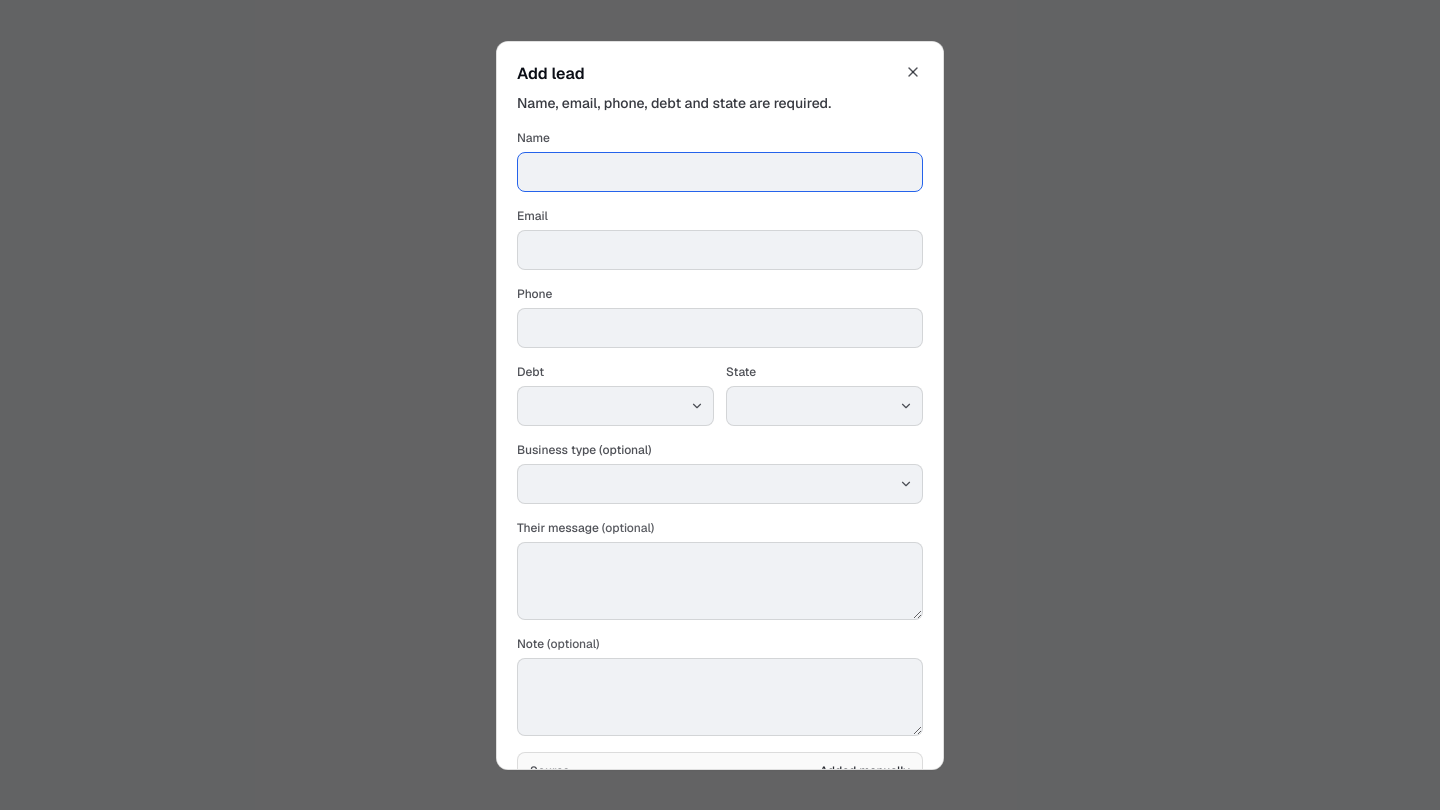
Test: AddLeadDialog — the State dropdown › stays open while several are ticked, and shows them on the button in a fixed order
Click the button named "State" at [824, 406], box [726,386,923,426]
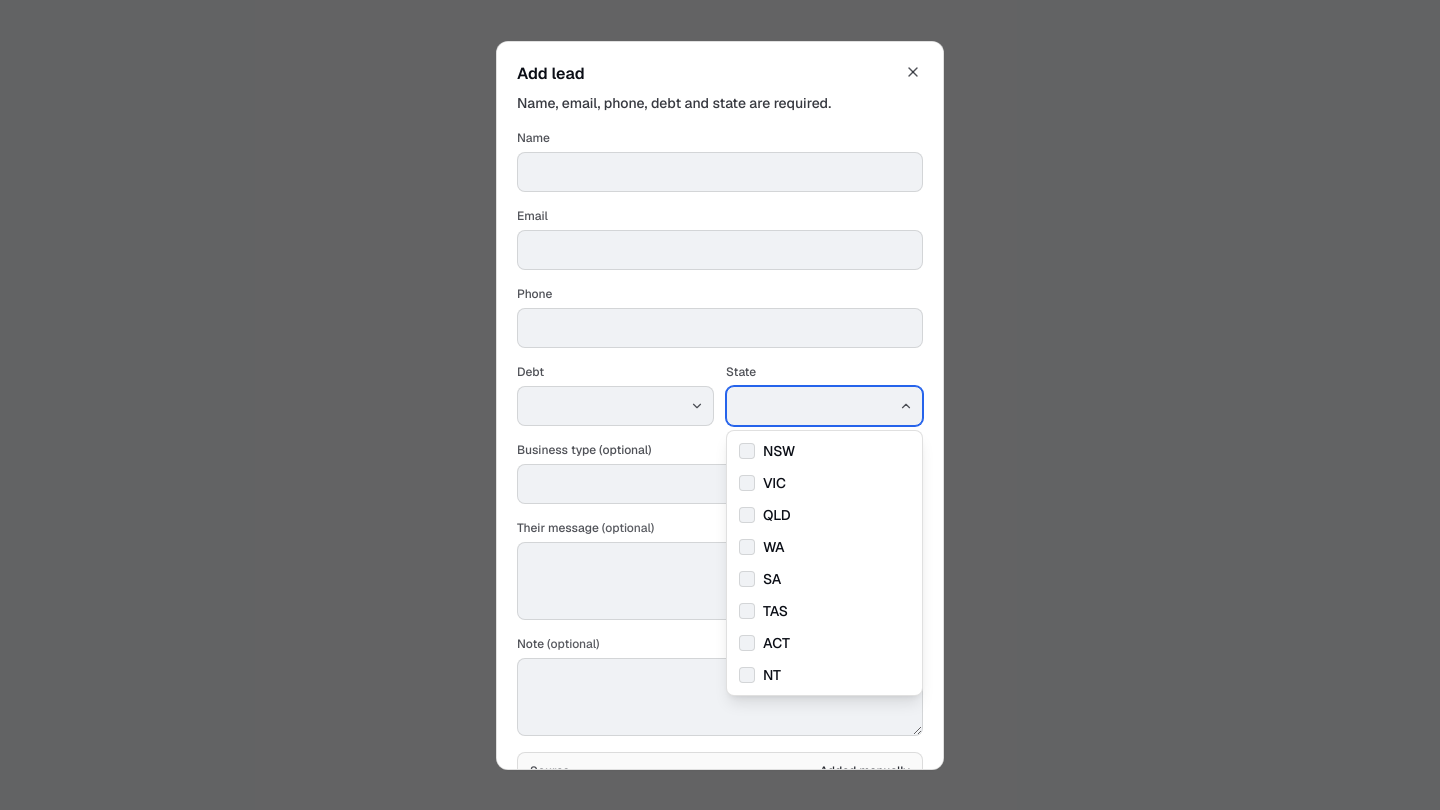
Click the checkbox labelled "VIC" at [762, 483], box [739,474,786,492]
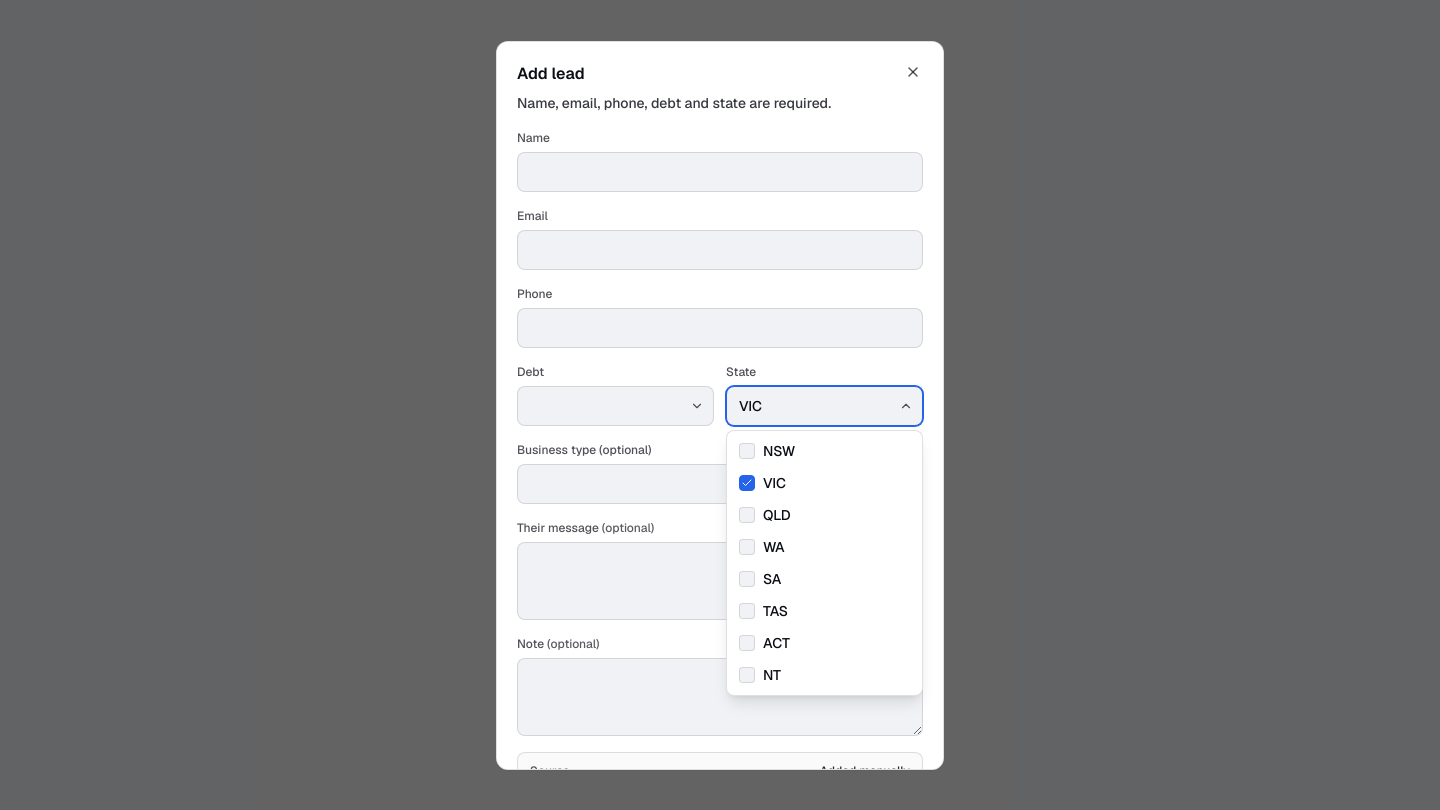
Click the checkbox labelled "NSW" at [767, 451], box [739,442,795,460]
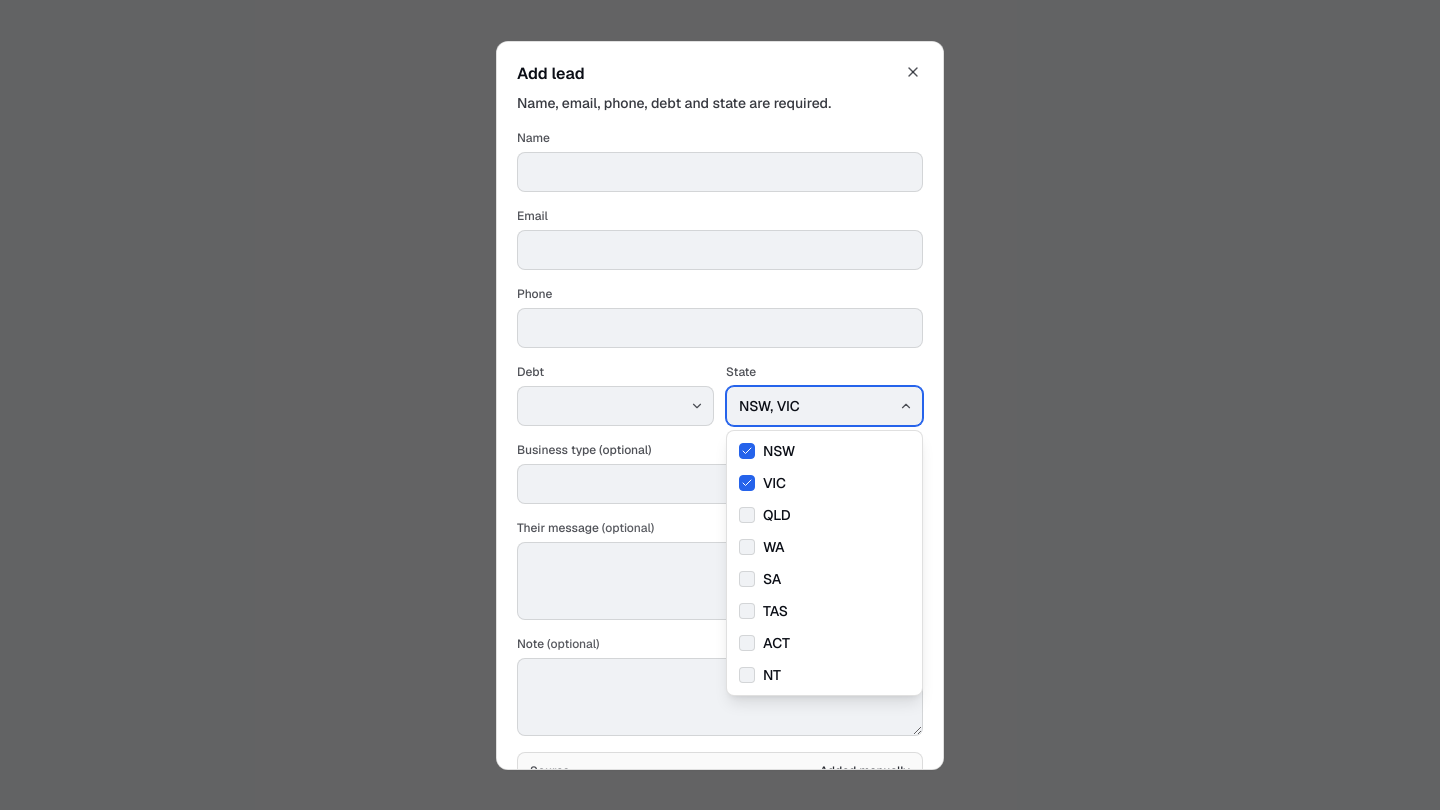
Click the checkbox labelled "TAS" at [764, 611], box [739,602,788,620]
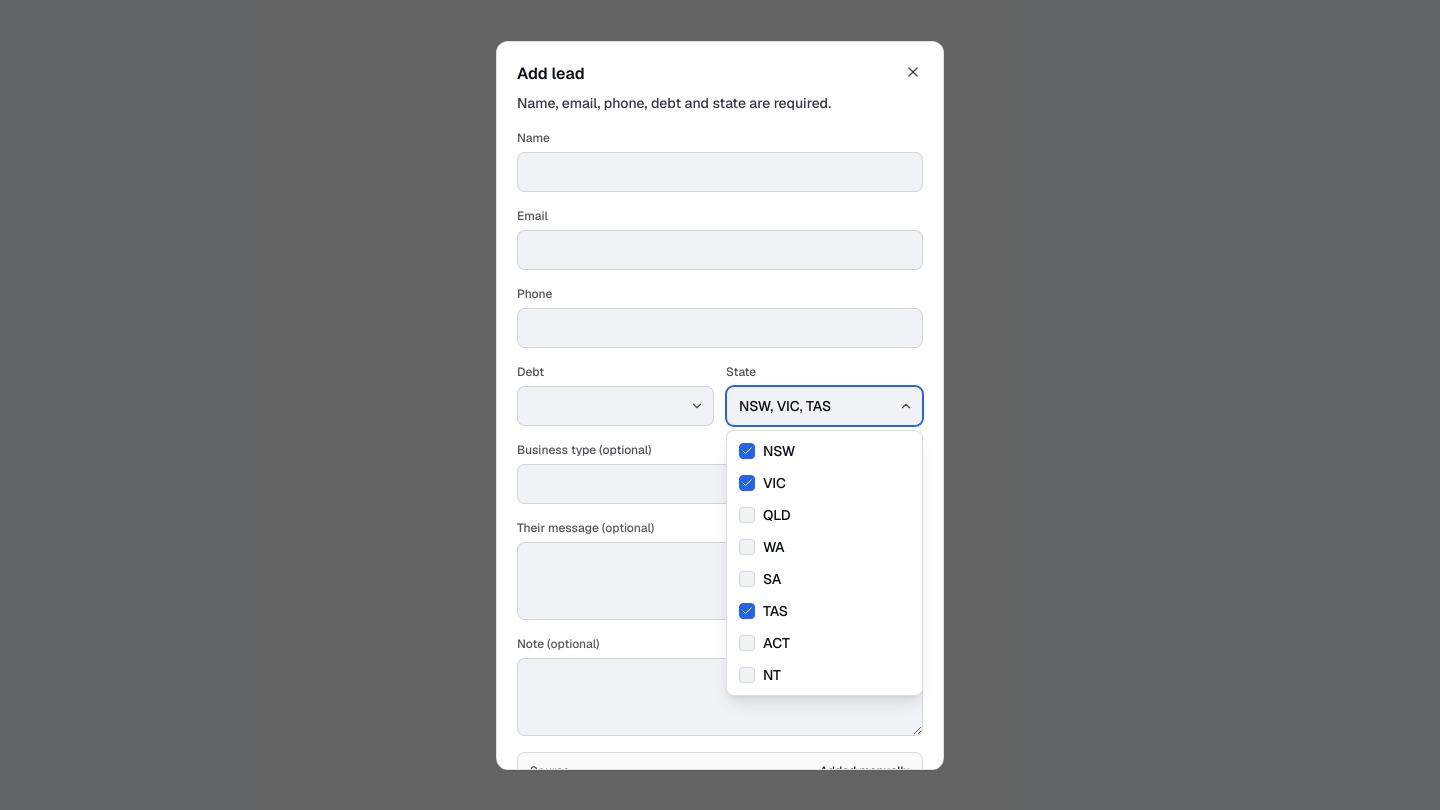
Check: the button named "State" is expanded, box [726,386,923,426]
Check: the button named "State" reads "NSW, VIC, TAS", box [726,386,923,426]
